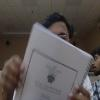notebook: (11, 21, 94, 99)
